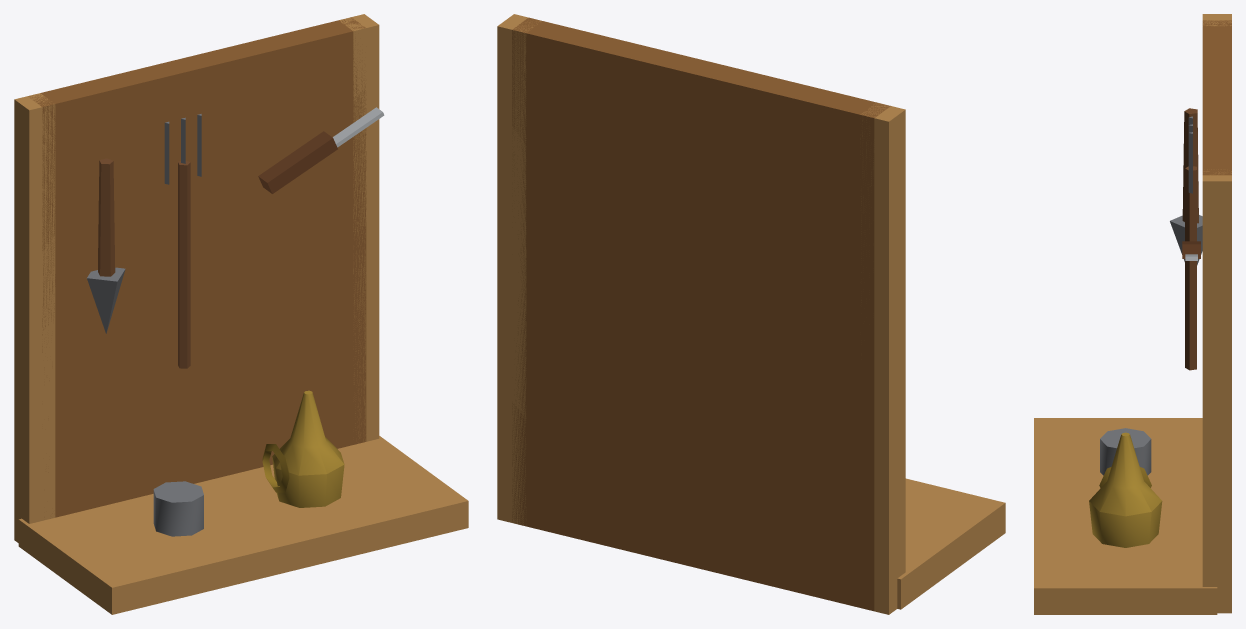
The model's file is lost_tools_display.glb.
3 views of the same model, side by side, from view 1: azimuth 30°, elevation 25°; view 2: azimuth 150°, elevation 25°; view 3: azimuth 270°, elevation 25° (orthographic). The views are drawn at different scales.
Parts seen in each view (by area): view 1: decor-lost_tools_display; view 2: decor-lost_tools_display; view 3: decor-lost_tools_display.
Boxes of the visible parts, x1,y1,x2,y2 form: decor-lost_tools_display: [14, 14, 468, 614]; decor-lost_tools_display: [497, 14, 1005, 614]; decor-lost_tools_display: [1034, 14, 1231, 614].
Size of the model in its own units: 1.1 by 1.3 by 0.5399.
